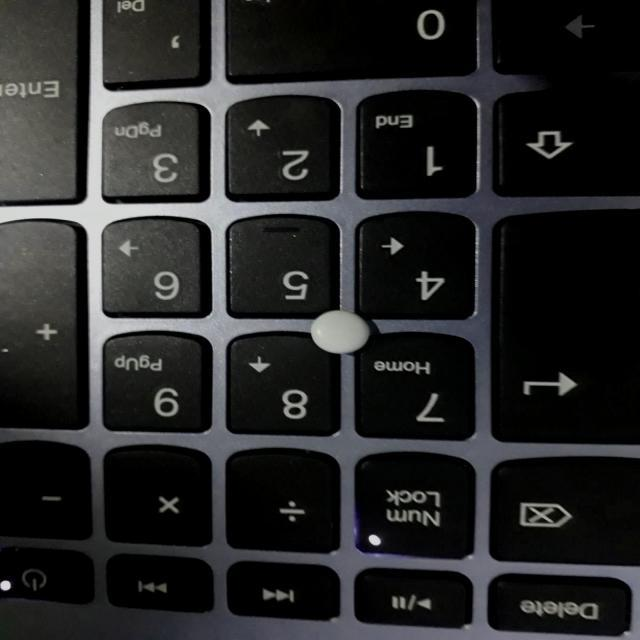pill: (305, 307, 370, 357)
